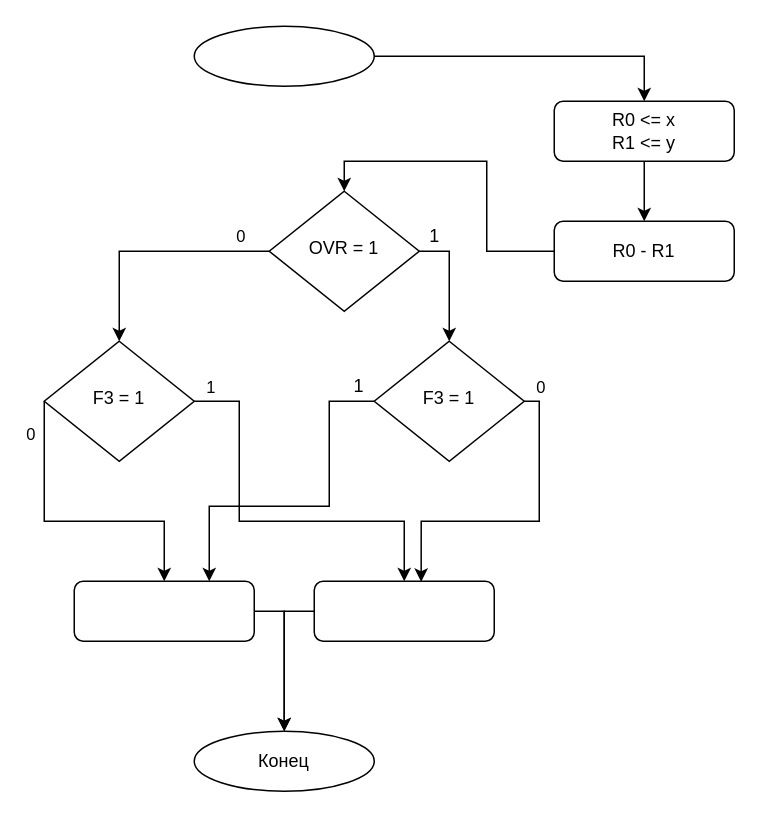
The diagram is 761 pixels wide and 818 high, and some of its shapes have lost their labels. The shapes that lost their labels are listed below. From the top down, each one's centre as x and y in pixels, then its label:
At pixel 283 55: "Начало".
At pixel 163 610: "R2 <= R0".
At pixel 403 610: "R2 <= R1".
